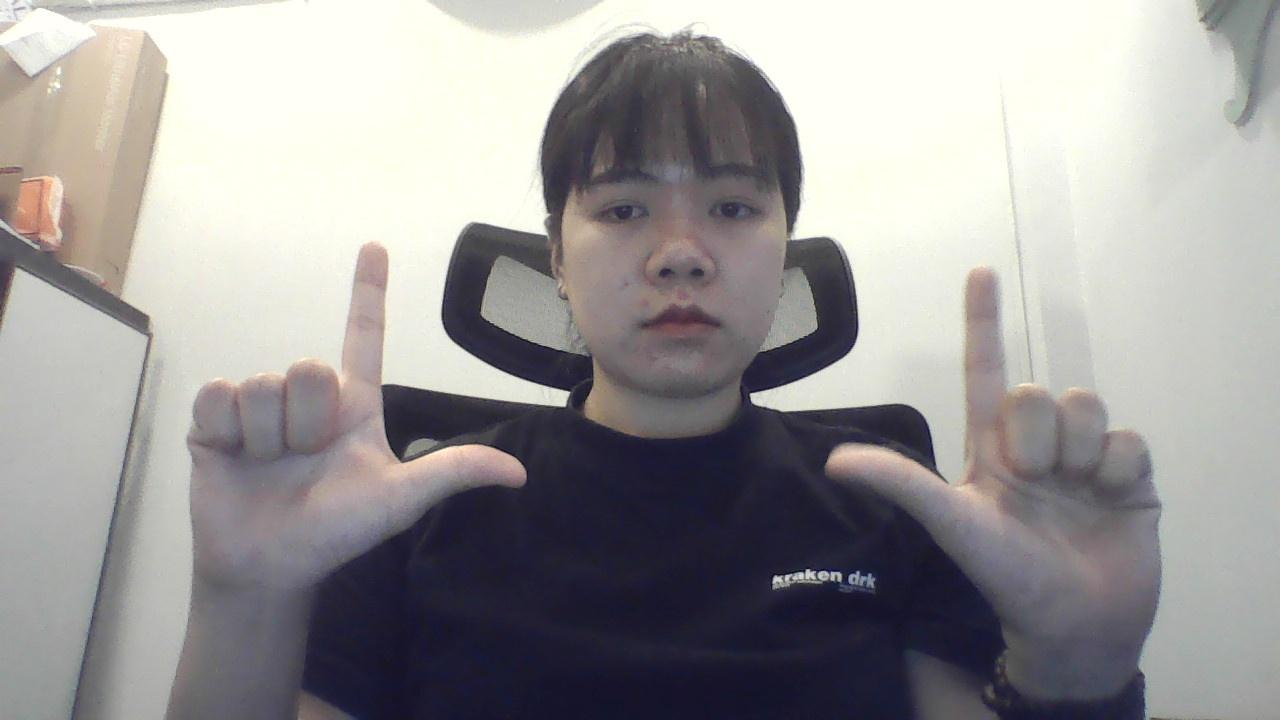L: (810, 242, 1176, 654), (162, 220, 528, 606)
